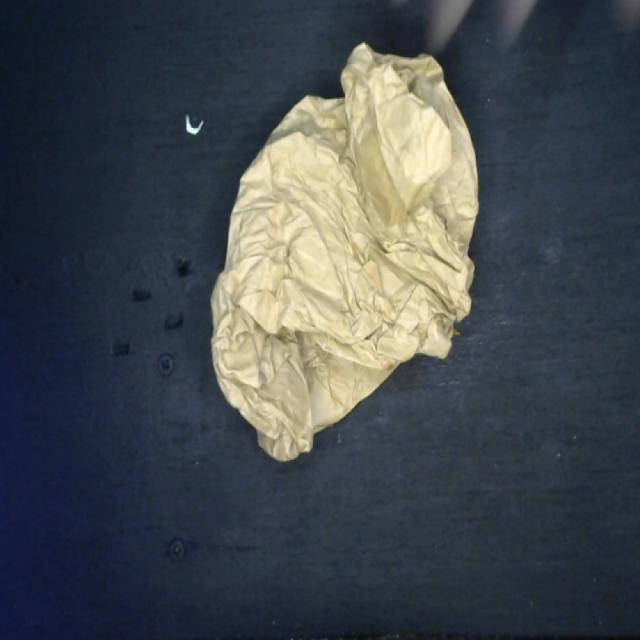biodegradable: (204, 42, 483, 468)
